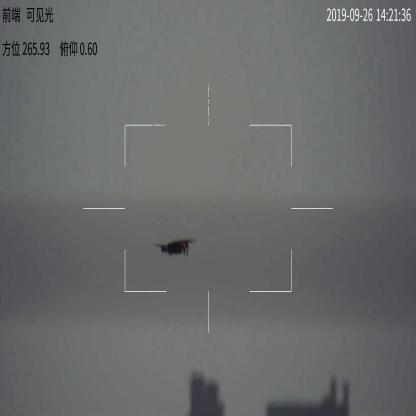uav: (155, 236, 193, 258)
